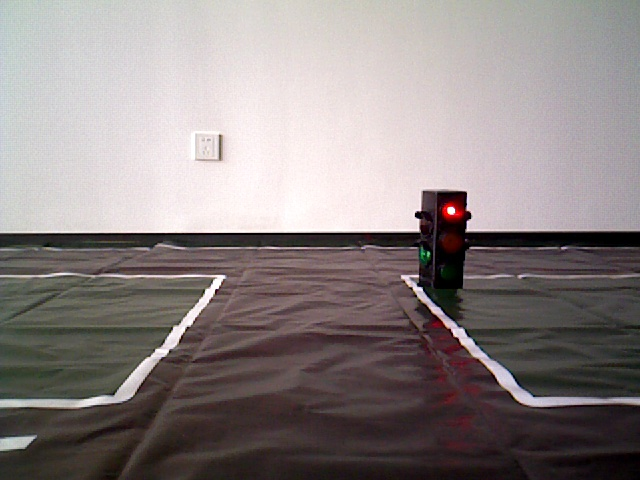red: (420, 191, 462, 289)
